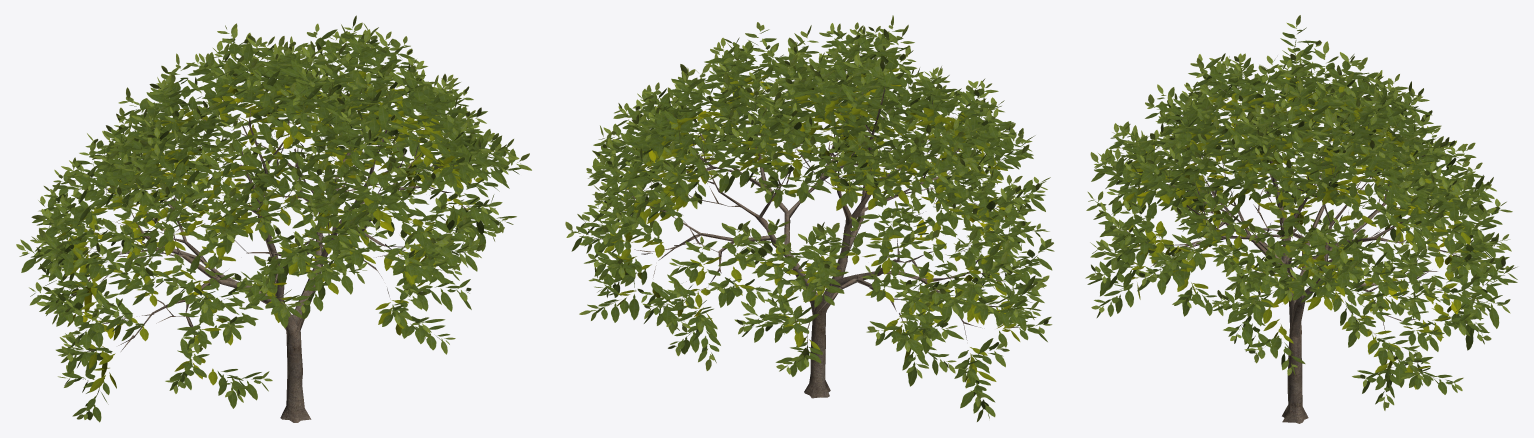
Rendered from citrus_b.glb.
The picture shows the model from 3 angles, left to right: view 1: azimuth 30°, elevation 25°; view 2: azimuth 150°, elevation 25°; view 3: azimuth 270°, elevation 25°; orthographic projection. The views are drawn at different scales.
Parts seen in each view (by area): view 1: Citrus_x_aurantium_HD_Citrus aurant leaf 01 y1_0; view 2: Citrus_x_aurantium_HD_Citrus aurant leaf 01 y1_0; view 3: Citrus_x_aurantium_HD_Citrus aurant leaf 01 y1_0.
Boxes of the visible parts, bbox=[...] form: Citrus_x_aurantium_HD_Citrus aurant leaf 01 y1_0: bbox=[16, 15, 531, 422]; Citrus_x_aurantium_HD_Citrus aurant leaf 01 y1_0: bbox=[565, 15, 1054, 421]; Citrus_x_aurantium_HD_Citrus aurant leaf 01 y1_0: bbox=[1085, 15, 1517, 423].
Size of the model in its own units: 3.24 by 2.59 by 2.83.
8 materials, 8 textured.
